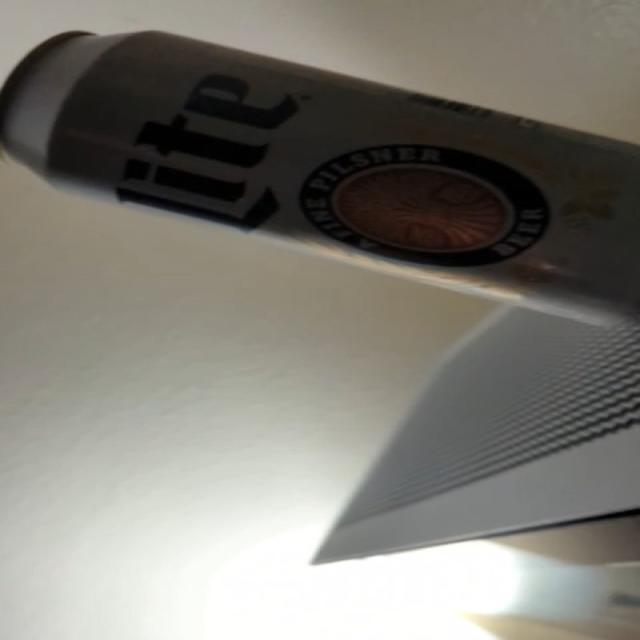metal: (4, 31, 638, 335)
